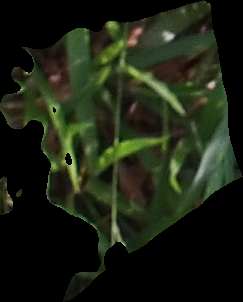grass: (1, 1, 242, 300)
